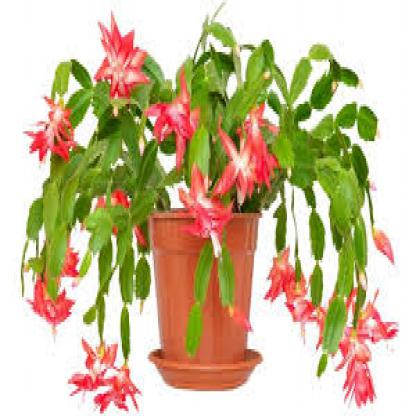Aglonema: (31, 26, 350, 391)
